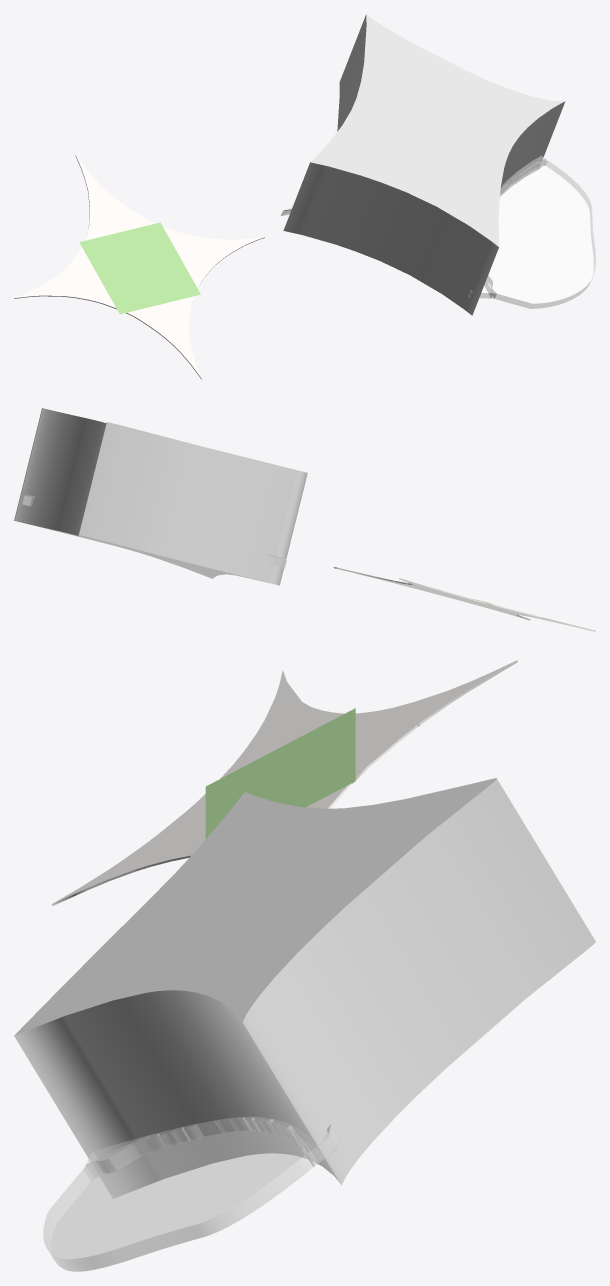
File: piece_decoupe_v02.glb
3 renders of one model, top to bottom at view 1: azimuth 30°, elevation 25°; view 2: azimuth 150°, elevation 25°; view 3: azimuth 270°, elevation 25°, orthographic. The views are drawn at different scales.
Visible parts, largest first — view 1: surface_drop, piece1, couleurEtoile, papier_extrusion17, papier_extrusion1, papier_extrusion20, papier_extrusion19, papier_extrusion4, papier_extrusion13, papier_extrusion5, papier_extrusion16, papier_extrusion3 (+1 smaller); view 2: surface_drop; view 3: surface_drop, piece1, couleurEtoile, papier_extrusion17, papier_extrusion13, extrusion8, papier_extrusion4, papier_extrusion20, papier_extrusion19, papier_extrusion3, papier_extrusion16, papier_extrusion18.
Boxes of the visible parts, <box> form: surface_drop: <box>283,14,565,315</box>; piece1: <box>486,160,595,308</box>; couleurEtoile: <box>79,222,200,314</box>; papier_extrusion17: <box>75,155,116,229</box>; papier_extrusion1: <box>194,237,264,264</box>; papier_extrusion20: <box>14,277,84,298</box>; papier_extrusion19: <box>55,247,95,281</box>; papier_extrusion4: <box>164,322,201,379</box>; papier_extrusion13: <box>114,200,154,232</box>; papier_extrusion5: <box>175,233,212,261</box>; papier_extrusion16: <box>58,282,110,304</box>; papier_extrusion3: <box>168,297,192,336</box>; surface_drop: <box>14,408,307,585</box>; surface_drop: <box>14,778,595,1198</box>; piece1: <box>43,1118,313,1271</box>; couleurEtoile: <box>205,708,355,838</box>; papier_extrusion17: <box>363,660,517,737</box>; papier_extrusion13: <box>352,725,417,783</box>; extrusion8: <box>83,1133,164,1180</box>; papier_extrusion4: <box>51,840,170,905</box>; papier_extrusion20: <box>267,670,301,734</box>; papier_extrusion19: <box>280,702,344,740</box>; papier_extrusion3: <box>134,836,205,871</box>; papier_extrusion16: <box>233,714,280,769</box>; papier_extrusion18: <box>355,702,412,738</box>.
Bounding box in the file's own units: 0.521 × 0.2023 × 0.2549.
